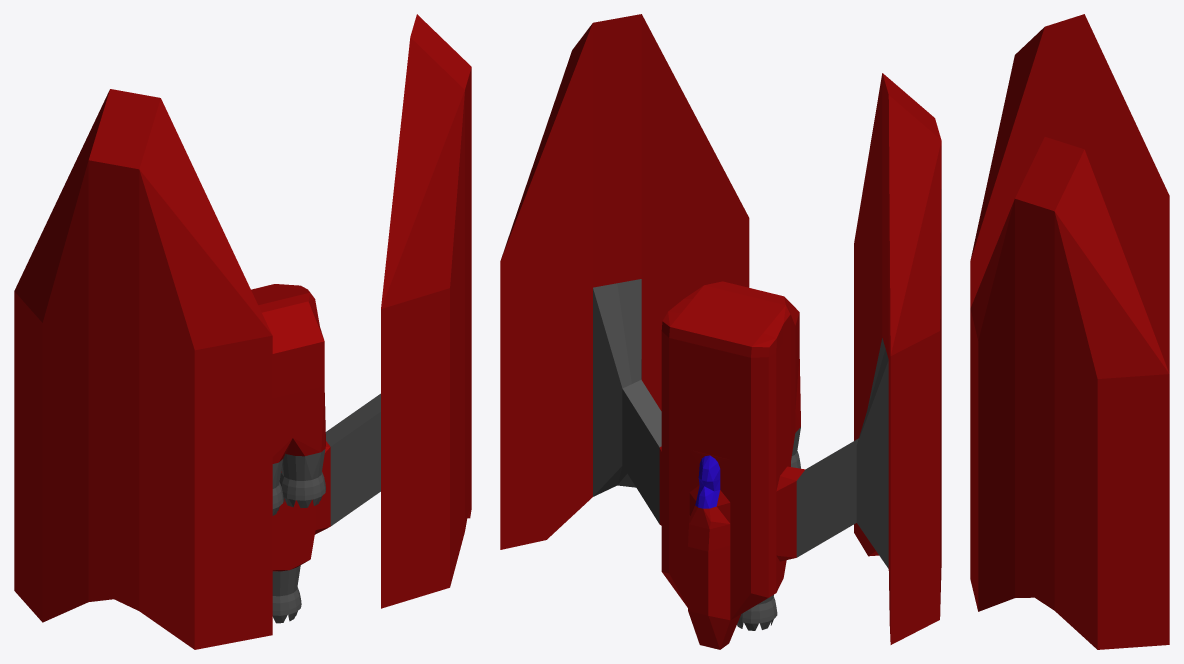
File: MediumBomberBody.fbx
The picture shows the model from 3 angles, left to right: view 1: azimuth 30°, elevation 25°; view 2: azimuth 150°, elevation 25°; view 3: azimuth 270°, elevation 25°; orthographic projection. The views are drawn at different scales.
Visible parts, largest first — view 1: MediumBomber; view 2: MediumBomber; view 3: MediumBomber.
Part boxes in pixels (x1=…): MediumBomber: x1=14, y1=14, x2=471, y2=649; MediumBomber: x1=500, y1=14, x2=941, y2=649; MediumBomber: x1=970, y1=14, x2=1169, y2=649.
Size of the model in its own units: 2016 by 2645 by 899.
